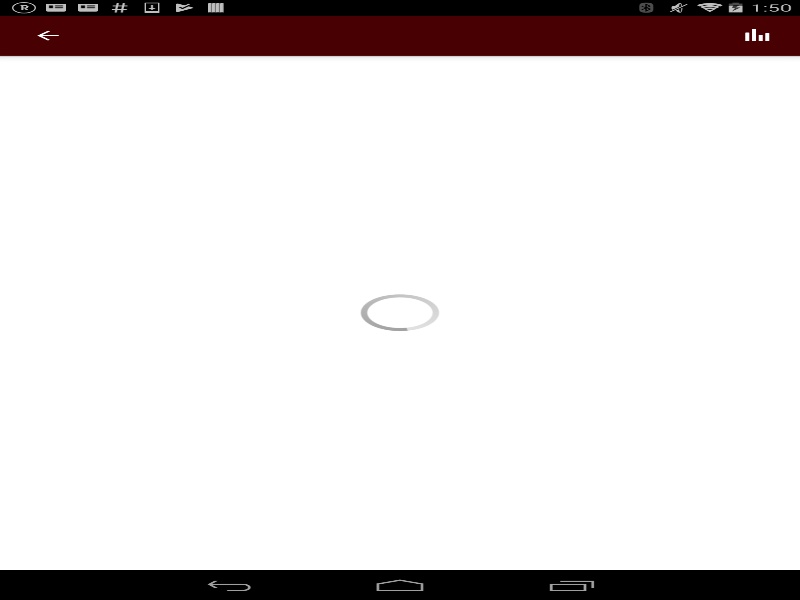Button: (10, 15, 85, 55), (323, 212, 495, 220), (290, 246, 366, 257), (404, 246, 480, 257), (557, 290, 615, 301), (557, 317, 615, 328), (557, 344, 615, 355), (557, 371, 615, 382), (50, 346, 100, 355), (458, 224, 476, 232), (500, 212, 517, 220)
Input: (323, 224, 454, 232)
